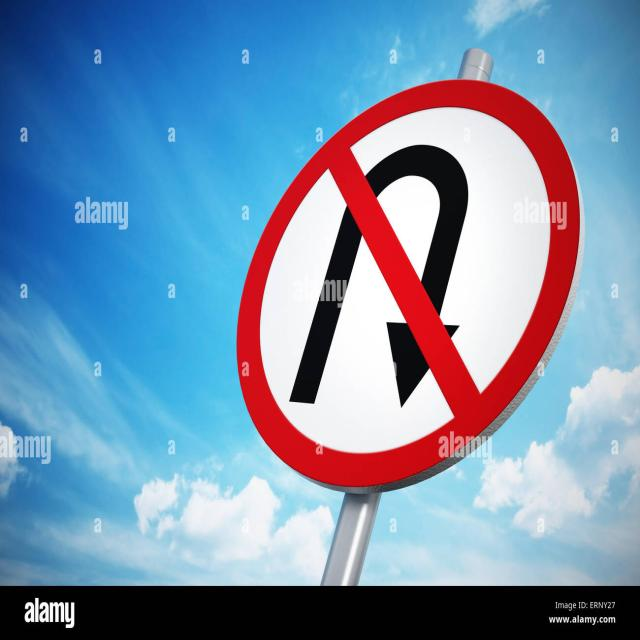Demi-Tour-Interdit: (236, 80, 581, 489)
